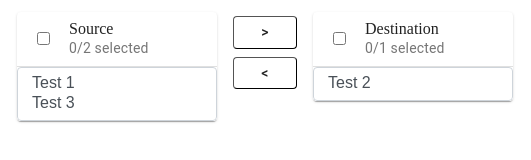
Scenario: Testing OnClick Events › Testing Transfer › transfer some options to right
This screenshot has width=531, height=160.
expect the text "0/2 selected" is shown: met, box [69, 40, 148, 56]
expect the text "0/1 selected" is shown: met, box [365, 40, 444, 56]
Select "Test 3" in the dropdown with test id "select-multiple" below "Source". click: (117, 94)
box: [17, 67, 217, 121]
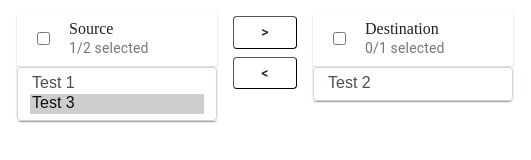
expect the text "1/2 selected" is shown: met, box [69, 40, 148, 56]
Click the button ">". click: (265, 32)
box: [233, 16, 297, 48]
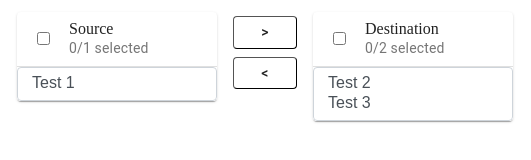
expect the text "0/1 selected" is shown: met, box [69, 40, 148, 56]
expect the text "0/2 selected" is shown: met, box [365, 40, 444, 56]
